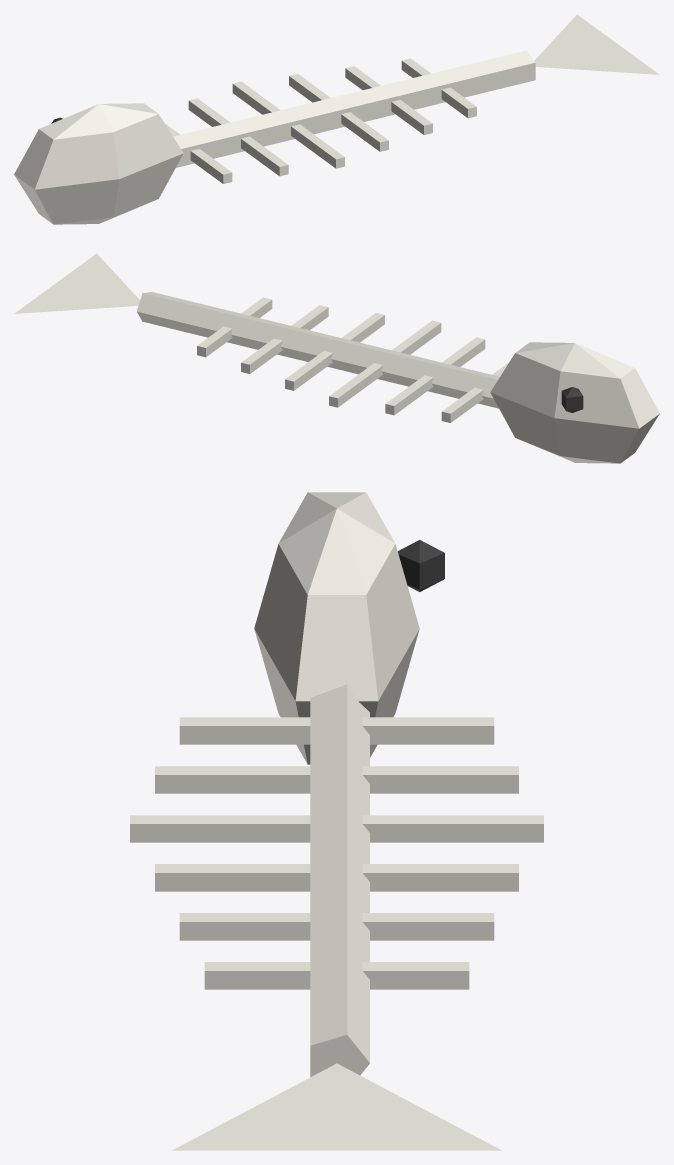
File: Basura_Organico_RaspaPescado.fbx
3 renders of one model, top to bottom at view 1: azimuth 30°, elevation 25°; view 2: azimuth 150°, elevation 25°; view 3: azimuth 270°, elevation 25°, orthographic. The views are drawn at different scales.
Parts seen in each view (by area): view 1: Basura_Organico_RaspaPescado; view 2: Basura_Organico_RaspaPescado; view 3: Basura_Organico_RaspaPescado.
Boxes of the visible parts, box(x1,y1,x2,y2) form: Basura_Organico_RaspaPescado: box(14, 14, 659, 224); Basura_Organico_RaspaPescado: box(14, 253, 659, 463); Basura_Organico_RaspaPescado: box(130, 492, 543, 1150).
Bounding box in the file's own units: 1.66 × 0.32 × 0.5.
Materials: 1 (1 with a texture image).
